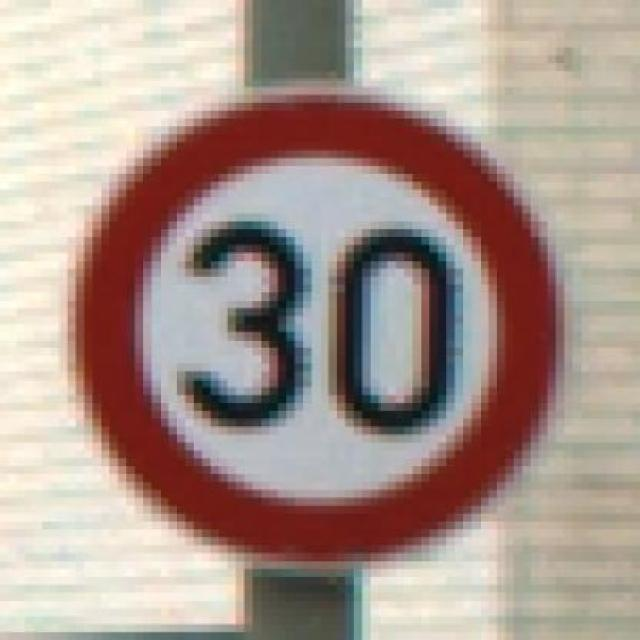Speed Limit 30 KMPh: (58, 87, 590, 561)
